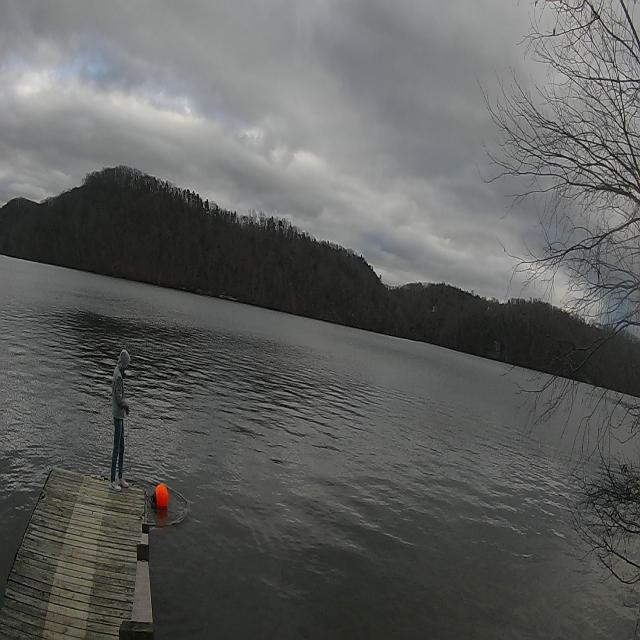Buoy: (154, 480, 170, 511)
